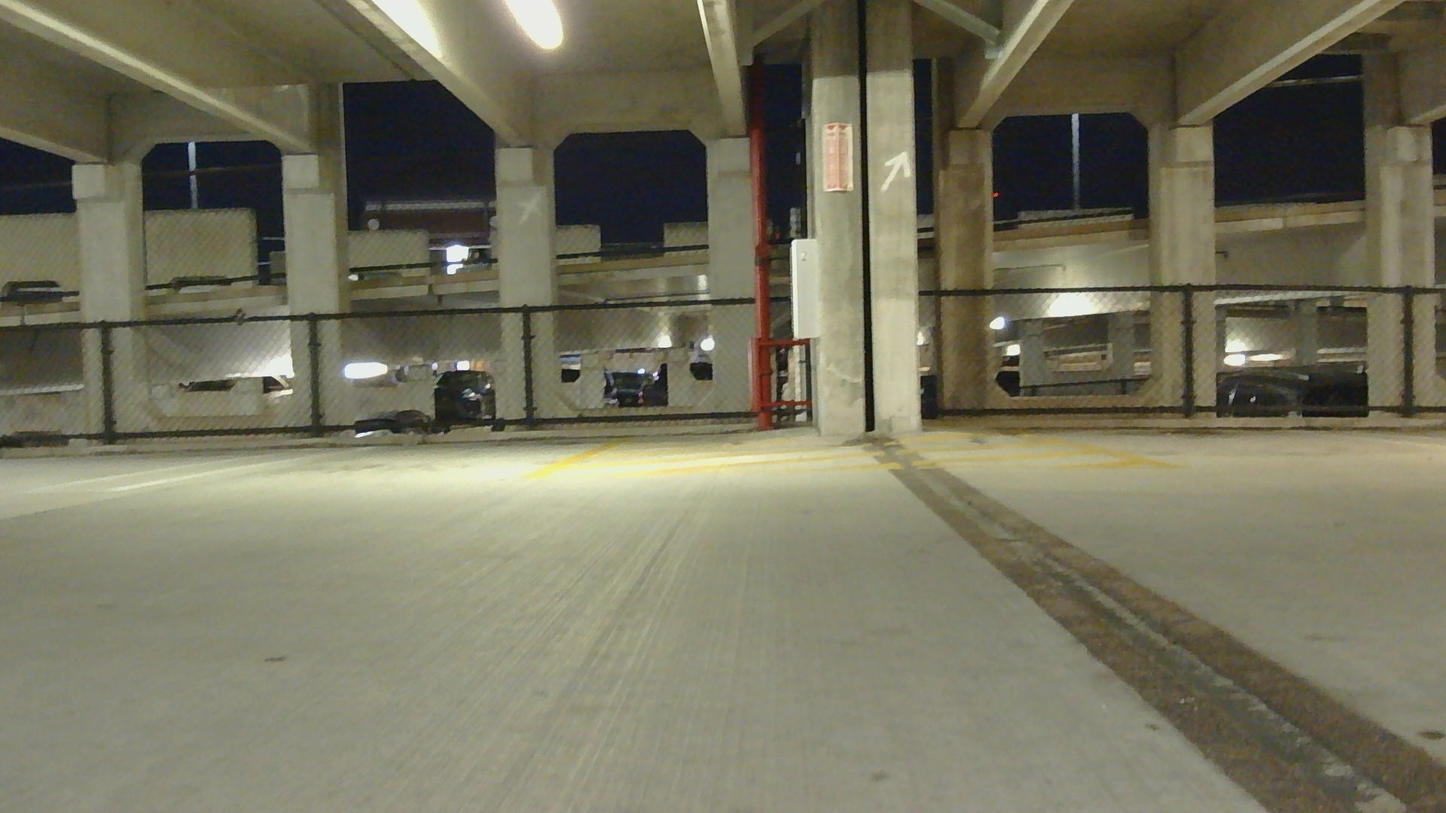empty_spot: (79, 358, 641, 499), (1004, 345, 1445, 472)
